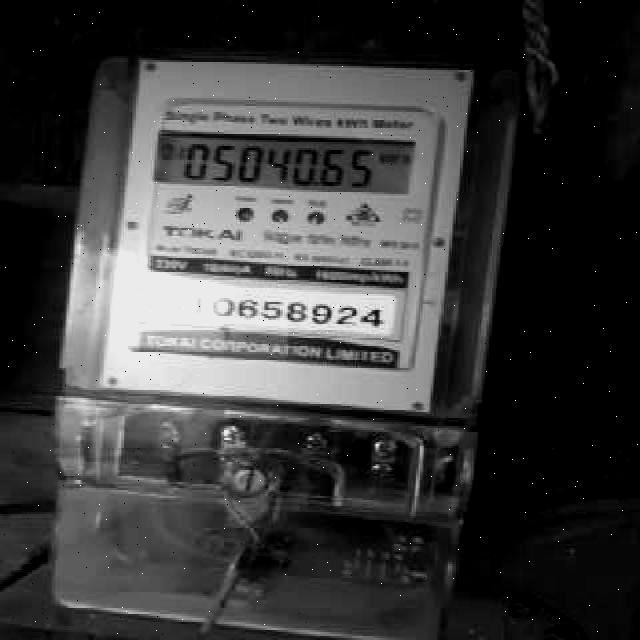LCD: (148, 121, 428, 205)
